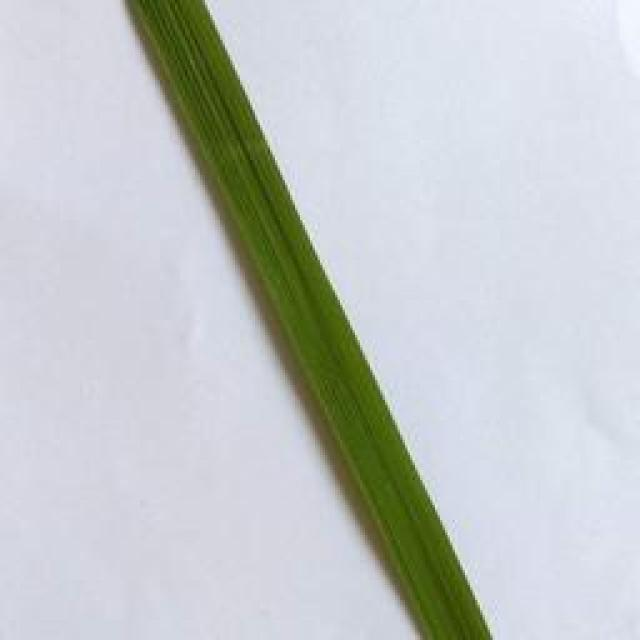Healthy-Plant: (150, 0, 496, 640)
